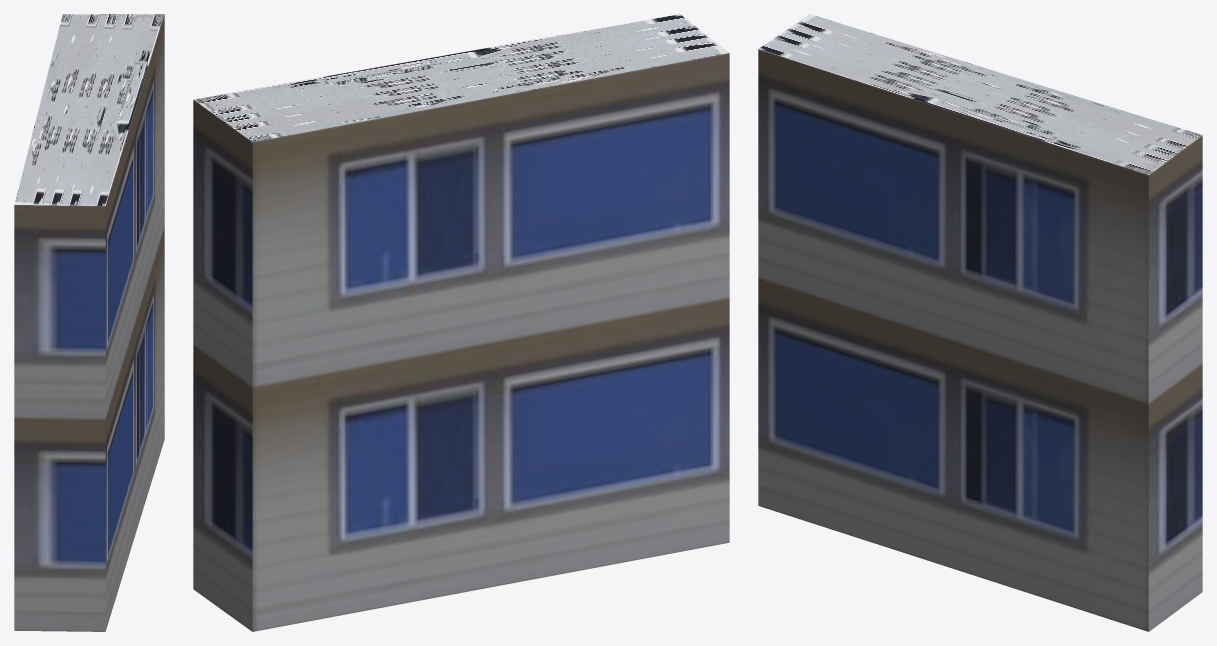
The model's file is ResTex__3903.fbx.
The picture shows the model from 3 angles, left to right: view 1: azimuth 30°, elevation 25°; view 2: azimuth 150°, elevation 25°; view 3: azimuth 270°, elevation 25°; orthographic projection. The views are drawn at different scales.
Parts seen in each view (by area): view 1: CityEngineMaterial_23_m, CityEngineMaterial_m; view 2: CityEngineMaterial_23_m, CityEngineMaterial_m; view 3: CityEngineMaterial_23_m, CityEngineMaterial_m.
Boxes of the visible parts, x1,y1,x2,y2 form: CityEngineMaterial_23_m: (14, 14, 164, 631); CityEngineMaterial_m: (14, 14, 164, 205); CityEngineMaterial_23_m: (193, 53, 729, 631); CityEngineMaterial_m: (194, 14, 728, 142); CityEngineMaterial_23_m: (758, 49, 1202, 631); CityEngineMaterial_m: (758, 14, 1202, 175).
Size of the model in its own units: 4.54 by 6 by 5.29.
2 materials, 2 textured.
